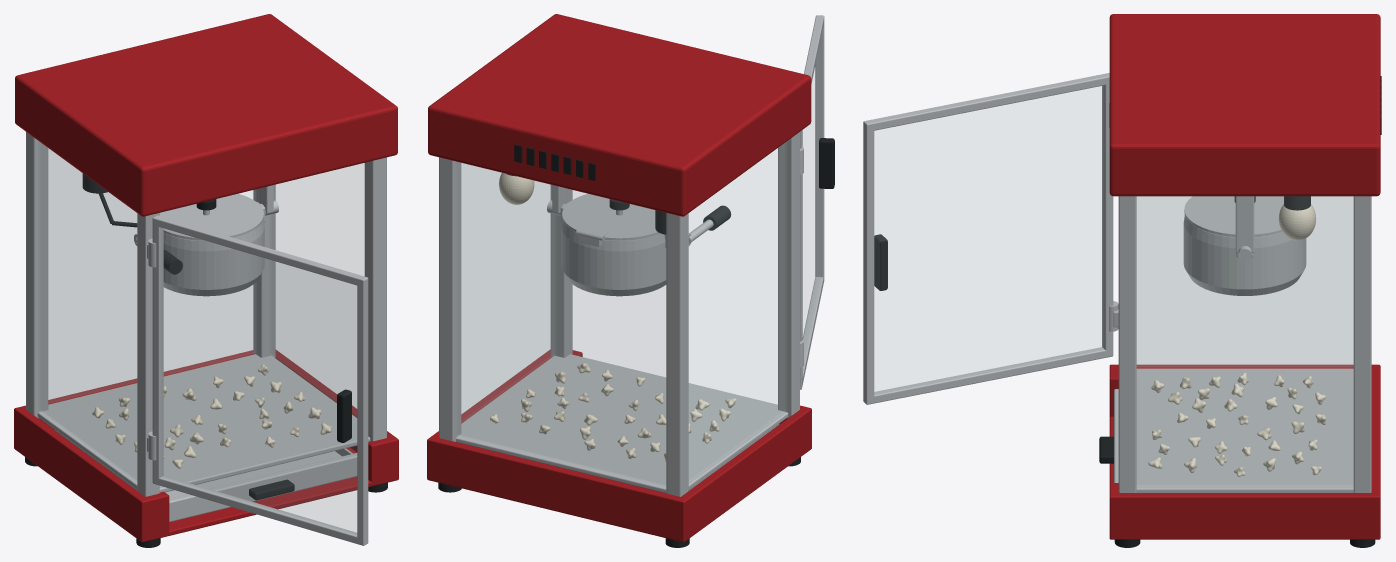
3 renders of one model, left to right at view 1: azimuth 30°, elevation 25°; view 2: azimuth 150°, elevation 25°; view 3: azimuth 270°, elevation 25°, orthographic. The views are drawn at different scales.
Parts seen in each view (by area): view 1: Top canopy, Door glass, Side glass -0.188, Rear glass, Serving floor, Side glass 0.188, Corner post -0.185 0.157, Cabinet base side -0.20255, Corner post 0.185 -0.157, Hollow kettle, Corner post -0.185 -0.157, Crumb drawer front (+14 smaller); view 2: Rear glass, Top canopy, Side glass -0.188, Serving floor, Side glass 0.188, Cabinet base rear, Corner post -0.185 0.157, Corner post 0.185 0.157, Cabinet base side -0.20255, Corner post -0.185 -0.157, Hollow kettle, Door glass (+10 smaller); view 3: Side glass 0.188, Door glass, Top canopy, Side glass -0.188, Serving floor, Cabinet base side 0.20255, Hollow kettle, Corner post 0.185 -0.157, Corner post 0.185 0.157, Door side rail 0.171, Kettle lid, Door cross rail 0.511 (+8 smaller).
Part boxes in pixels (x1,y1,x2,y2): Top canopy: (15,14,397,216); Door glass: (162,228,356,533); Side glass -0.188: (39,143,136,481); Rear glass: (49,149,255,402); Serving floor: (37,354,370,492); Side glass 0.188: (270,163,364,416); Corner post -0.185 0.157: (26,132,48,418); Cabinet base side -0.20255: (14,407,147,538); Corner post 0.185 -0.157: (364,157,386,441); Hollow kettle: (163,220,264,296); Corner post -0.185 -0.157: (137,213,159,496); Crumb drawer front: (169,453,357,522); Rear glass: (457,162,665,485); Top canopy: (428,14,811,216); Side glass -0.188: (689,143,786,481); Serving floor: (456,354,788,492); Side glass 0.188: (462,163,555,422); Cabinet base rear: (432,437,681,537); Corner post -0.185 0.157: (666,213,688,496); Corner post 0.185 0.157: (439,157,461,441); Cabinet base side -0.20255: (676,407,811,538); Corner post -0.185 -0.157: (778,132,799,418); Hollow kettle: (561,220,666,296); Door glass: (803,56,817,343); Side glass 0.188: (1137,196,1353,485); Door glass: (874,86,1102,392); Top canopy: (1109,14,1380,196); Side glass -0.188: (1137,197,1352,366); Serving floor: (1136,368,1353,492); Cabinet base side 0.20255: (1109,493,1380,535); Hollow kettle: (1183,215,1306,295); Corner post 0.185 -0.157: (1118,196,1136,492); Corner post 0.185 0.157: (1353,196,1371,492); Door side rail 0.171: (863,120,874,404); Kettle lid: (1184,196,1283,237); Door cross rail 0.511: (871,74,1106,130).
Bounding box in the file's own units: 0.4191 × 0.5969 × 0.6924.
